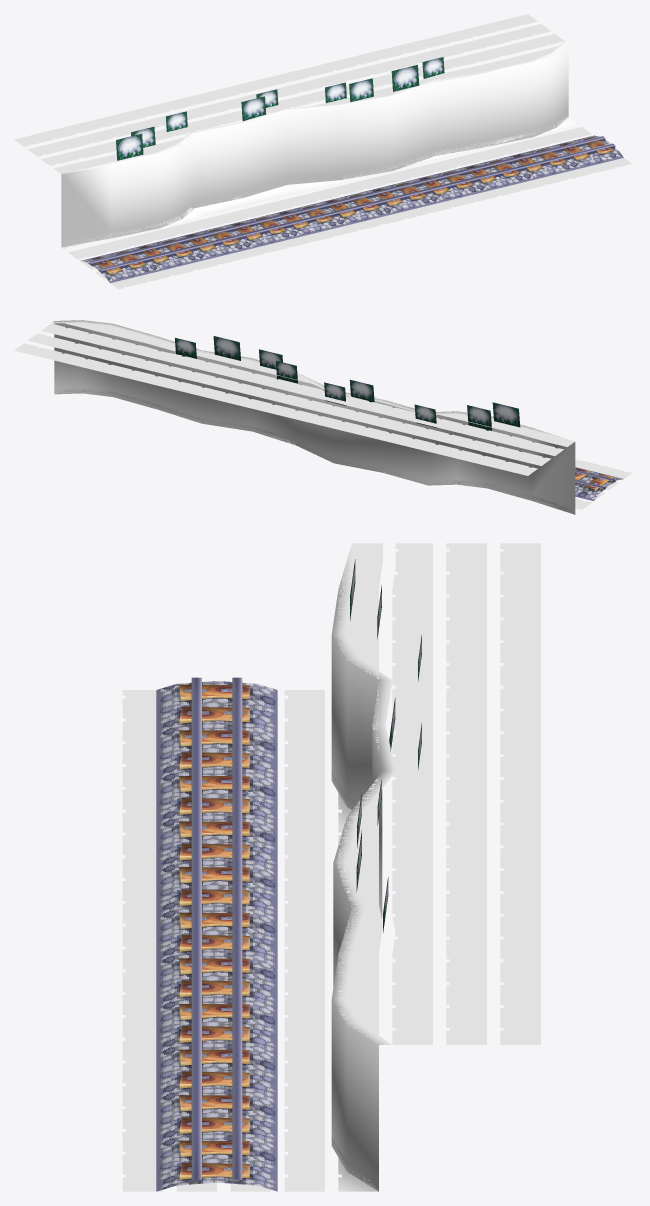
The model's file is robj_En_0.dae.
3 views of the same model, one above another, from view 1: azimuth 30°, elevation 25°; view 2: azimuth 150°, elevation 25°; view 3: azimuth 270°, elevation 25° (orthographic). The views are drawn at different scales.
Visible parts, largest first — view 1: robj_En_0; view 2: robj_En_0; view 3: robj_En_0.
Boxes of the visible parts, left/top/right/bottom form: robj_En_0: left=14, top=14, right=631, bottom=289; robj_En_0: left=14, top=320, right=631, bottom=514; robj_En_0: left=122, top=543, right=540, bottom=1191.
Bounding box in the file's own units: 704 × 122 × 256.
4 materials, 3 textured.
